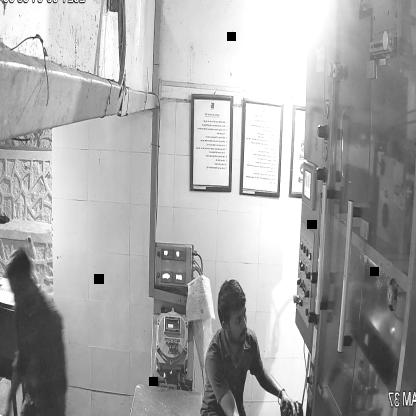no_goggles: (219, 301, 252, 332)
